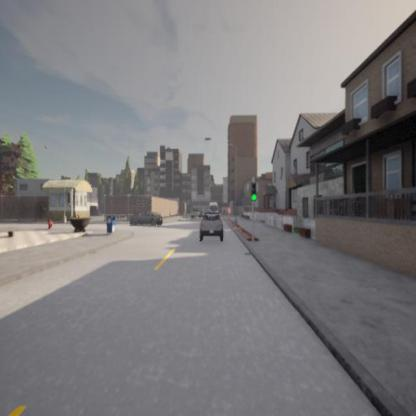traffic_light_green: (250, 185, 258, 202)
vehicle: (197, 213, 224, 239), (128, 212, 162, 226)
